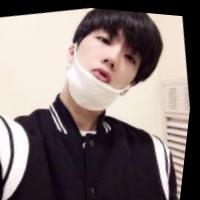WRONG: (52, 8, 162, 116)
